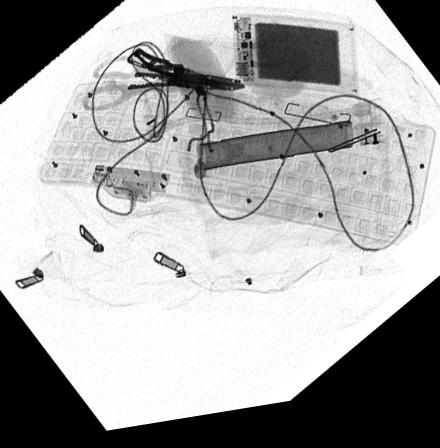Knife: (125, 52, 226, 99)
Powerbank: (229, 19, 357, 111)
Scissors: (81, 59, 246, 116)
